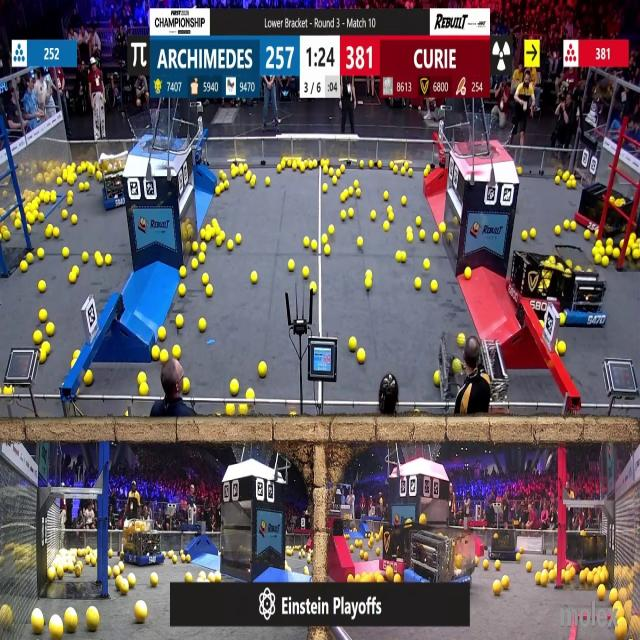ball_ground: (32, 611, 45, 636), (52, 618, 66, 640), (66, 612, 79, 635), (88, 611, 101, 632), (136, 602, 147, 622), (617, 620, 628, 640), (231, 380, 240, 395), (86, 371, 95, 386), (34, 332, 43, 346), (493, 582, 502, 596), (182, 379, 190, 394), (258, 361, 266, 376), (118, 577, 126, 592), (199, 318, 207, 332), (558, 342, 566, 356), (356, 349, 364, 363), (350, 338, 358, 352), (609, 590, 617, 604), (239, 406, 248, 418), (433, 372, 440, 387), (38, 310, 46, 323), (151, 346, 159, 359), (173, 346, 181, 359), (129, 574, 137, 587), (598, 587, 606, 600), (178, 284, 186, 296), (45, 322, 53, 334), (96, 253, 104, 265), (140, 384, 148, 396), (161, 350, 169, 362), (563, 570, 571, 582), (587, 571, 595, 583), (150, 573, 157, 586), (160, 327, 167, 340), (420, 512, 427, 525), (549, 570, 557, 581), (176, 315, 183, 327), (38, 280, 45, 292), (430, 280, 437, 292), (415, 278, 422, 290), (226, 405, 233, 417), (37, 248, 44, 260), (458, 335, 465, 347), (19, 262, 26, 274), (364, 278, 371, 290), (501, 576, 508, 588), (535, 572, 542, 584), (579, 570, 586, 582), (246, 388, 254, 398), (138, 374, 146, 384), (604, 246, 612, 256), (214, 572, 222, 582), (41, 343, 49, 353), (40, 351, 46, 364), (203, 274, 210, 285), (206, 285, 213, 296), (464, 269, 471, 280), (602, 255, 609, 266), (303, 268, 310, 279), (311, 241, 318, 252), (75, 565, 82, 576), (28, 213, 35, 224), (206, 230, 213, 241), (251, 272, 257, 284), (185, 572, 193, 581), (560, 314, 566, 326), (45, 228, 51, 240), (361, 572, 370, 580), (105, 254, 112, 264), (63, 248, 70, 258), (595, 254, 602, 264), (70, 274, 77, 284), (54, 229, 61, 239), (356, 238, 363, 248), (632, 249, 639, 259), (2, 232, 9, 242), (355, 572, 362, 582), (377, 572, 384, 582), (562, 172, 569, 182), (556, 224, 562, 235), (424, 260, 430, 271), (615, 248, 621, 259), (191, 242, 197, 253), (310, 282, 316, 293), (50, 190, 56, 201), (250, 175, 256, 186), (201, 231, 207, 242), (567, 180, 575, 188), (199, 253, 206, 262), (420, 231, 426, 241), (82, 252, 88, 262), (288, 262, 294, 272), (236, 235, 242, 245), (570, 220, 576, 230), (523, 232, 529, 242), (416, 216, 422, 226), (180, 268, 186, 278), (369, 210, 375, 220), (191, 261, 197, 271), (495, 560, 501, 570), (108, 567, 114, 577), (226, 241, 232, 251), (526, 562, 532, 572), (304, 238, 310, 248), (28, 253, 34, 263), (399, 251, 405, 261), (201, 242, 207, 252), (322, 235, 328, 245), (341, 210, 347, 220), (62, 210, 68, 220), (68, 175, 74, 185), (113, 566, 119, 576), (394, 574, 401, 582), (348, 573, 354, 582), (530, 230, 536, 239), (585, 232, 591, 241), (484, 560, 490, 569), (355, 188, 361, 197), (400, 197, 406, 206), (322, 183, 328, 192), (216, 238, 222, 247), (408, 234, 414, 243), (266, 177, 272, 186), (564, 220, 570, 229), (348, 209, 354, 218), (38, 213, 44, 222), (542, 561, 548, 570), (74, 350, 80, 359), (14, 219, 20, 228), (4, 386, 10, 395), (276, 164, 282, 173), (233, 169, 239, 178), (291, 161, 297, 170), (324, 246, 329, 256), (433, 234, 438, 244), (441, 222, 446, 232), (386, 212, 391, 222), (28, 223, 33, 233), (341, 164, 346, 174), (93, 557, 98, 567), (341, 192, 347, 200), (172, 556, 178, 564), (596, 240, 602, 248), (83, 185, 89, 193), (244, 174, 250, 182), (348, 187, 354, 195), (606, 239, 612, 247), (212, 218, 218, 226), (72, 215, 77, 224), (384, 221, 389, 230), (215, 186, 220, 195), (58, 177, 63, 186), (219, 171, 224, 180), (169, 552, 174, 561), (331, 177, 337, 184), (68, 190, 74, 197), (305, 567, 310, 575), (328, 224, 332, 234), (556, 176, 561, 184), (68, 198, 73, 206), (79, 182, 84, 190), (631, 234, 636, 242), (73, 267, 78, 275), (627, 248, 632, 256), (119, 562, 123, 572), (388, 206, 393, 214), (354, 180, 359, 188), (363, 554, 368, 562), (337, 170, 342, 178), (516, 166, 521, 174), (393, 167, 398, 175), (621, 240, 626, 248), (98, 172, 102, 182), (223, 180, 228, 188), (328, 169, 333, 177), (600, 247, 605, 255), (448, 234, 453, 242), (71, 359, 76, 367), (384, 190, 388, 199), (424, 169, 428, 178), (323, 168, 328, 175), (408, 225, 413, 232), (108, 551, 113, 558), (299, 166, 304, 173), (378, 163, 383, 170), (186, 555, 190, 563), (517, 554, 521, 562), (593, 247, 597, 255), (359, 162, 363, 170), (377, 549, 381, 557), (368, 162, 372, 170), (409, 170, 413, 177), (400, 169, 404, 176), (520, 545, 524, 552), (387, 161, 391, 168), (123, 413, 127, 419), (555, 547, 558, 553)
goal: (460, 118, 518, 158), (129, 115, 186, 152)
robot_blue: (562, 270, 606, 328), (122, 522, 164, 568), (100, 165, 126, 209), (489, 528, 518, 562)
robot_red: (512, 252, 572, 318), (380, 516, 429, 574), (578, 173, 608, 229), (564, 532, 604, 572)
